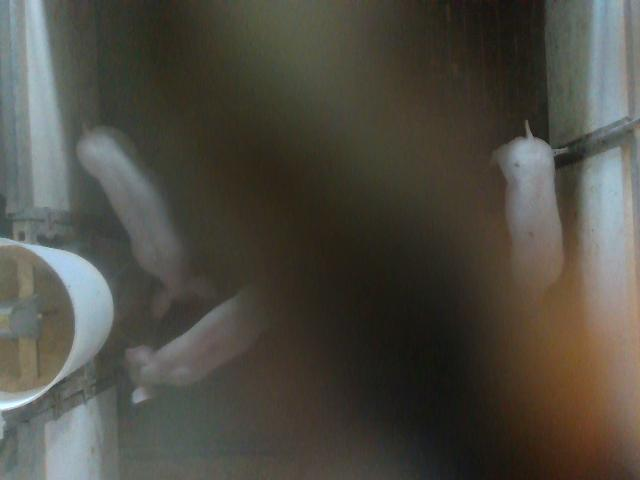pig-4: (128, 285, 269, 403)
